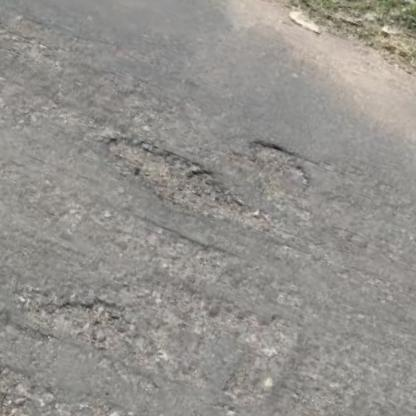pothole: (94, 125, 267, 231), (24, 273, 145, 361), (241, 132, 323, 195), (0, 341, 40, 416)
